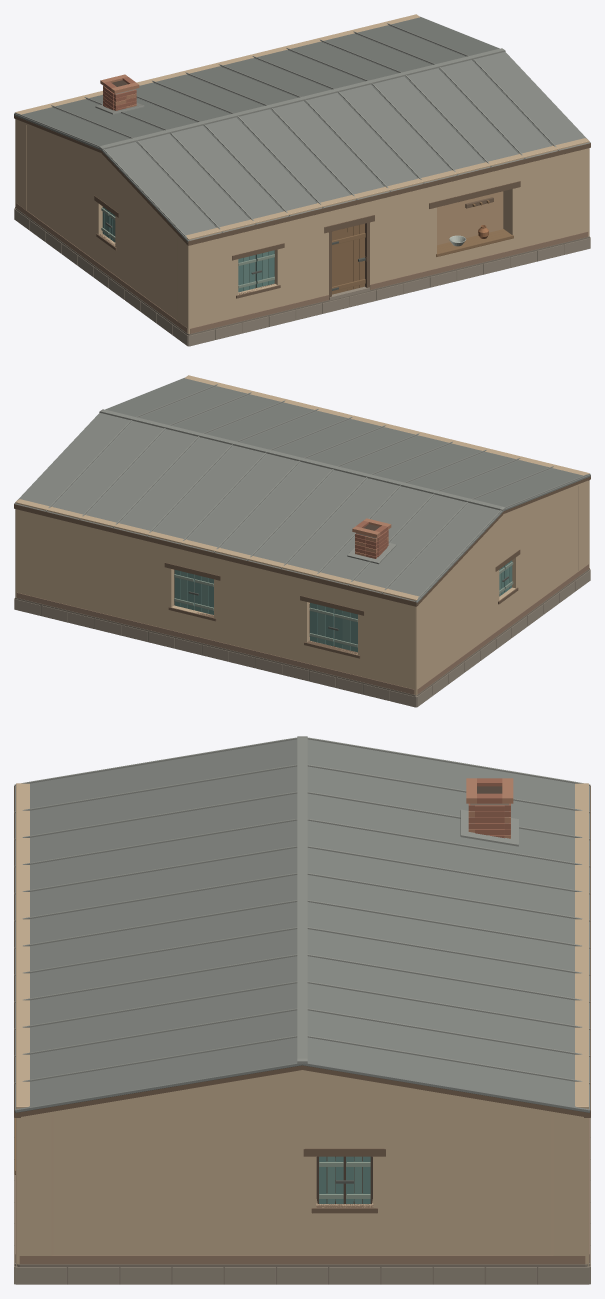
Rendered from HouseExterior_r001.glb.
3 renders of one model, top to bottom at view 1: azimuth 30°, elevation 25°; view 2: azimuth 150°, elevation 25°; view 3: azimuth 270°, elevation 25°, orthographic. The views are drawn at different scales.
Visible parts, largest first — view 1: HouseExterior; view 2: HouseExterior; view 3: HouseExterior.
Boxes of the visible parts, x1,y1,x2,y2 form: HouseExterior: (14,14,590,346); HouseExterior: (14,375,590,707); HouseExterior: (14,736,590,1284).
Size of the model in its own units: 12 by 4 by 9.
